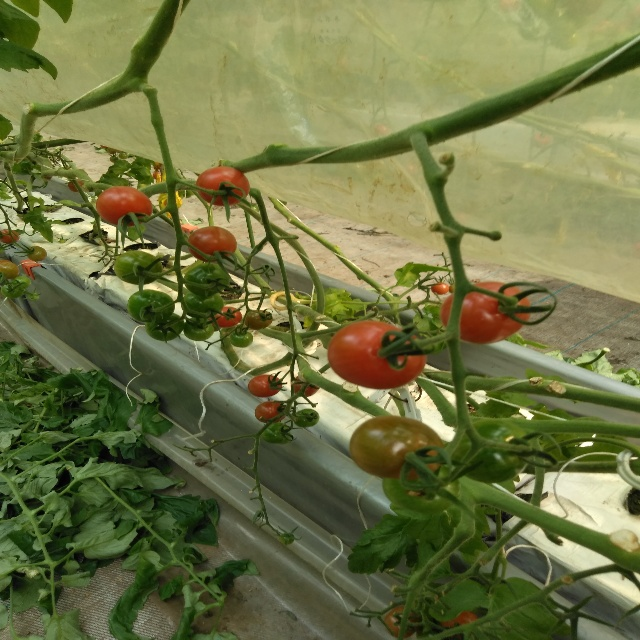l_fully_ripened: (327, 321, 427, 391), (441, 281, 532, 344), (96, 186, 154, 227), (196, 166, 251, 206), (187, 226, 237, 262), (248, 374, 282, 398), (208, 307, 242, 327), (293, 376, 321, 396), (1, 229, 20, 244), (431, 282, 449, 295)
l_green: (452, 419, 536, 483), (382, 465, 460, 515), (113, 250, 164, 284), (126, 289, 175, 323), (183, 263, 231, 297), (181, 291, 224, 319), (145, 313, 185, 341), (183, 317, 215, 341), (261, 422, 293, 444), (293, 408, 319, 428), (230, 331, 253, 348), (0, 283, 25, 298), (11, 275, 31, 290), (28, 293, 40, 301)
l_half_ripened: (350, 415, 445, 481), (383, 606, 420, 639), (255, 400, 288, 423), (244, 309, 273, 330), (0, 259, 20, 279), (26, 246, 47, 261)
